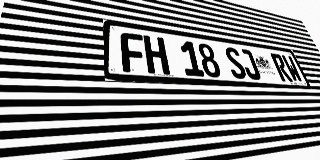1: (178, 40, 205, 77)
8: (196, 43, 222, 78)
F: (120, 32, 147, 73)
H: (143, 35, 170, 75)
J: (237, 48, 262, 80)
R: (270, 53, 293, 82)
S: (223, 46, 248, 79)
W: (281, 54, 304, 82)
